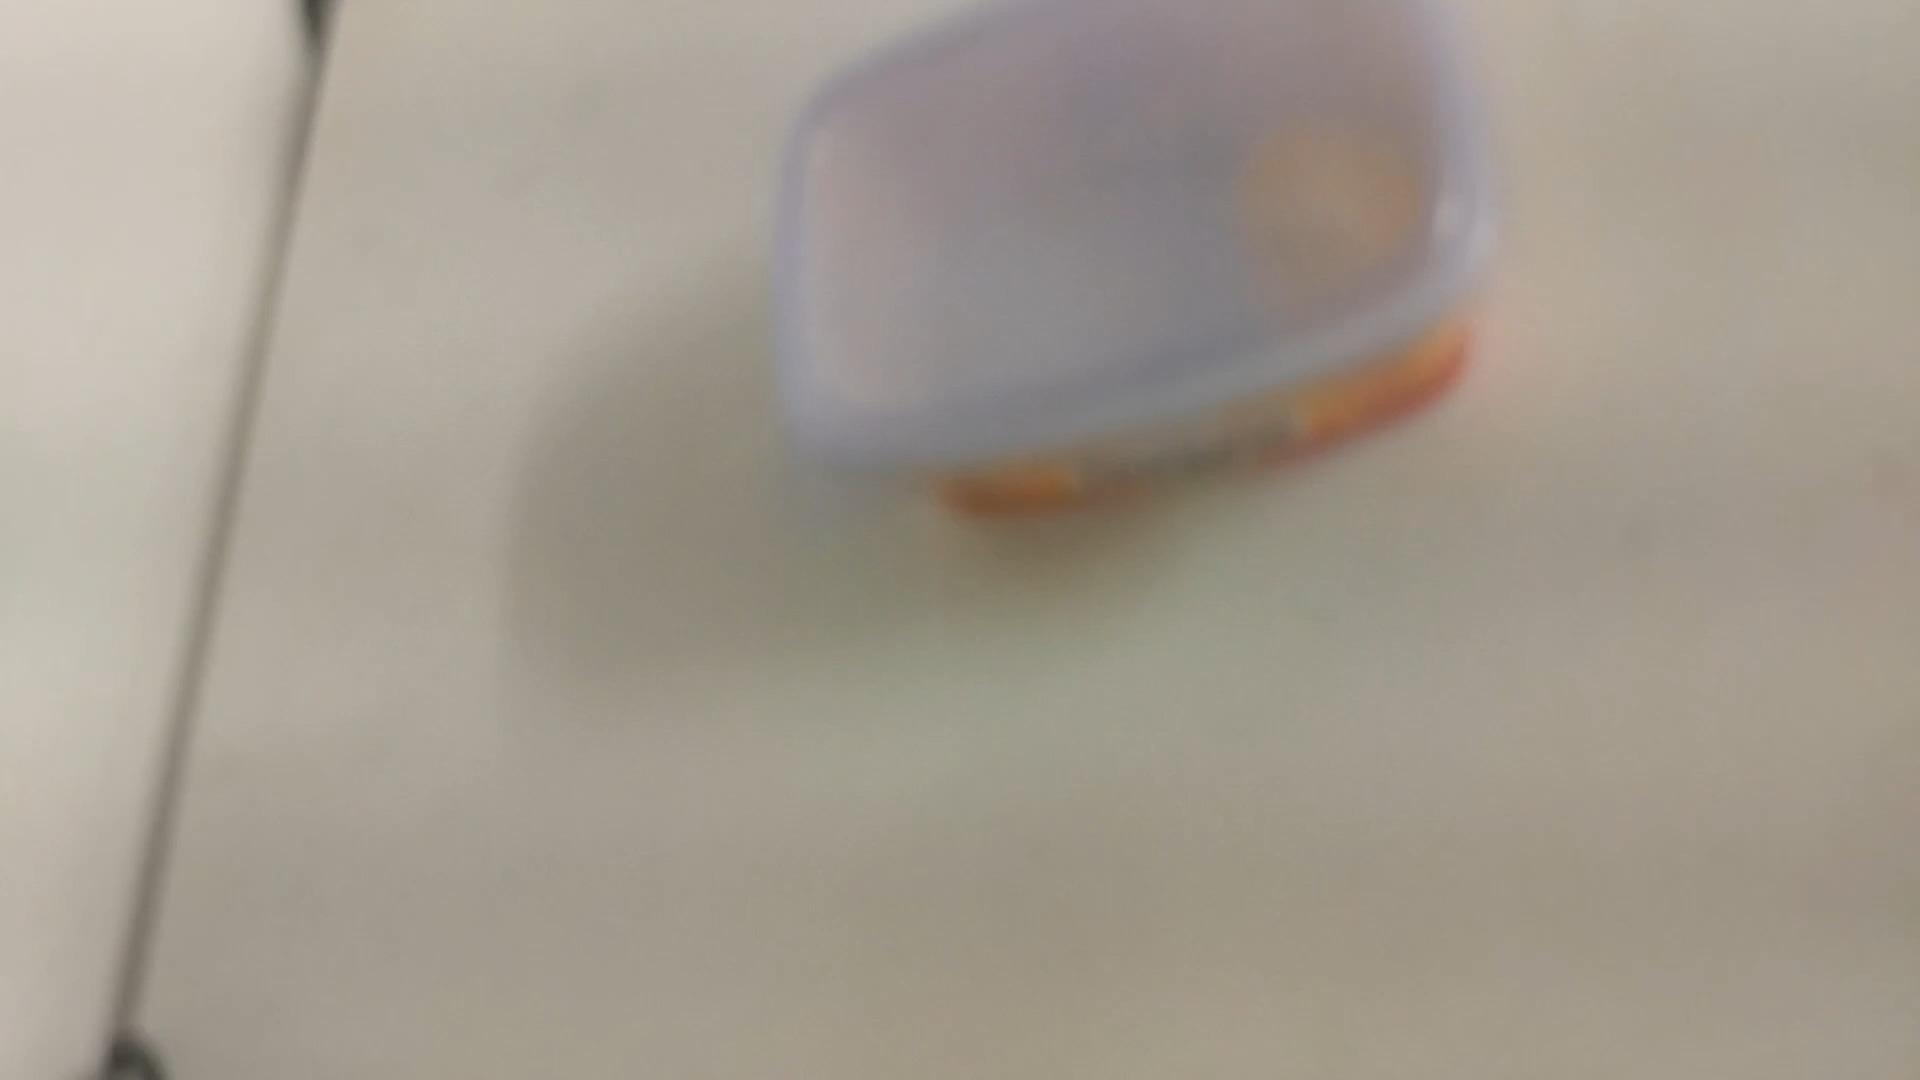butter: (753, 0, 1494, 527)
